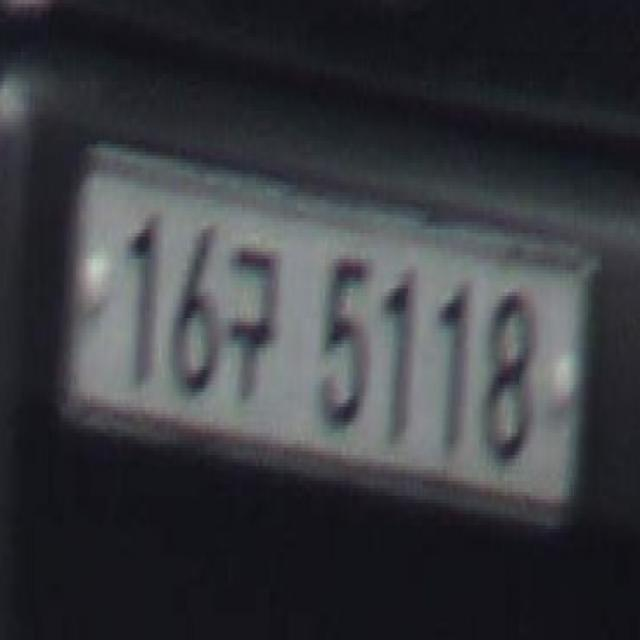1: (426, 263, 478, 466), (119, 200, 161, 403), (378, 259, 418, 451)
5: (318, 244, 372, 437)
6: (170, 211, 223, 411)
8: (479, 270, 536, 474)
gu: (223, 236, 279, 422)
license_plate: (55, 133, 597, 548)
